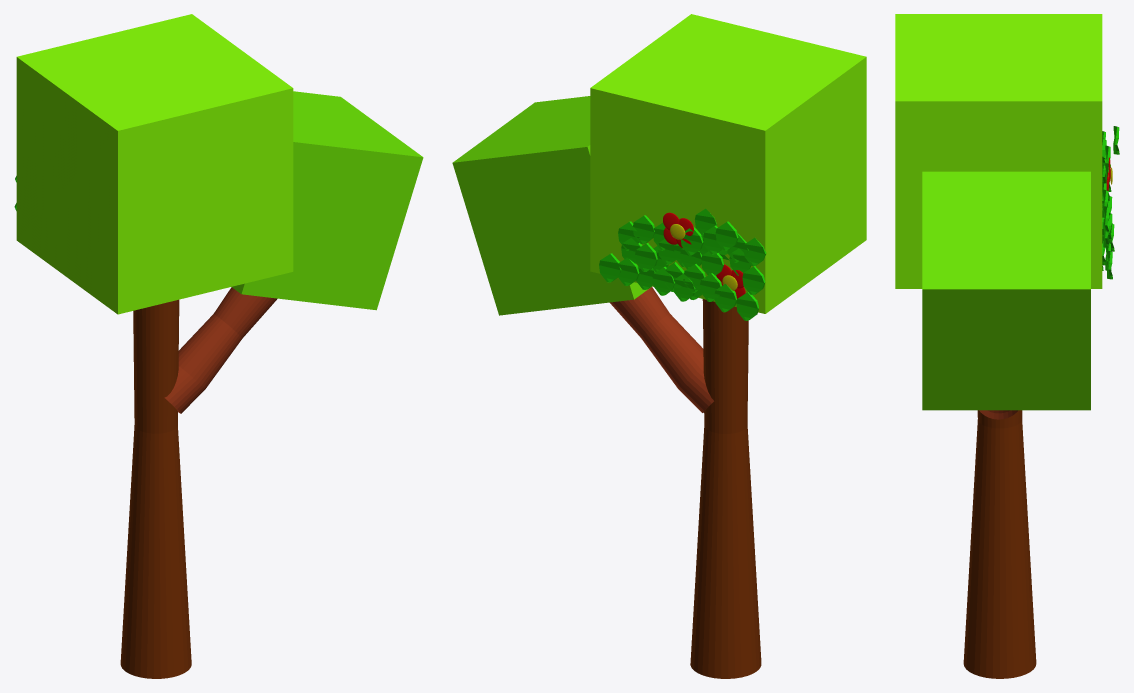
Rendered from arbol.glb.
3 renders of one model, left to right at view 1: azimuth 30°, elevation 25°; view 2: azimuth 150°, elevation 25°; view 3: azimuth 270°, elevation 25°, orthographic. The views are drawn at different scales.
Visible parts, largest first — view 1: Cube, Cube.001, Cylinder, Cylinder.001; view 2: Cube, Cube.001, Cylinder, Cylinder.001; view 3: Cube.001, Cube, Cylinder.
Part boxes in pixels (box(x1,y1,x2,y2)): Cube: box(16, 14, 293, 314); Cube.001: box(232, 91, 423, 310); Cylinder: box(120, 299, 191, 678); Cylinder.001: box(164, 287, 277, 413); Cube: box(590, 14, 866, 313); Cube.001: box(452, 96, 651, 315); Cylinder: box(690, 299, 761, 678); Cylinder.001: box(610, 287, 714, 412); Cube.001: box(922, 171, 1090, 410); Cube: box(895, 14, 1102, 288); Cylinder: box(963, 410, 1036, 678).
Size of the model in its own units: 4.47 by 7.91 by 2.66.
